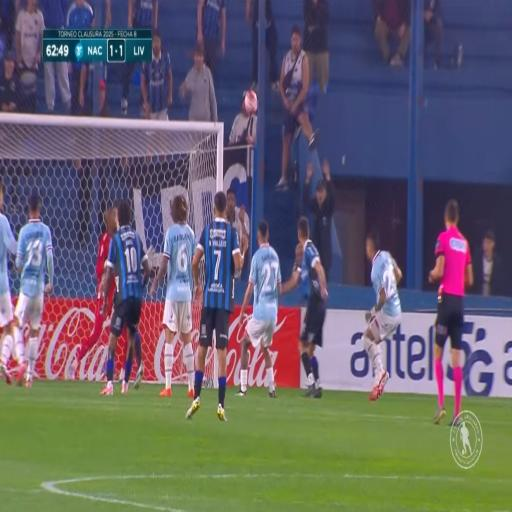Goalkeeper: (96, 208, 120, 358)
Player: (194, 202, 236, 419), (434, 200, 468, 431), (161, 192, 197, 410), (12, 192, 52, 379), (293, 213, 333, 399), (360, 232, 404, 400), (240, 224, 281, 398), (112, 204, 140, 378)
